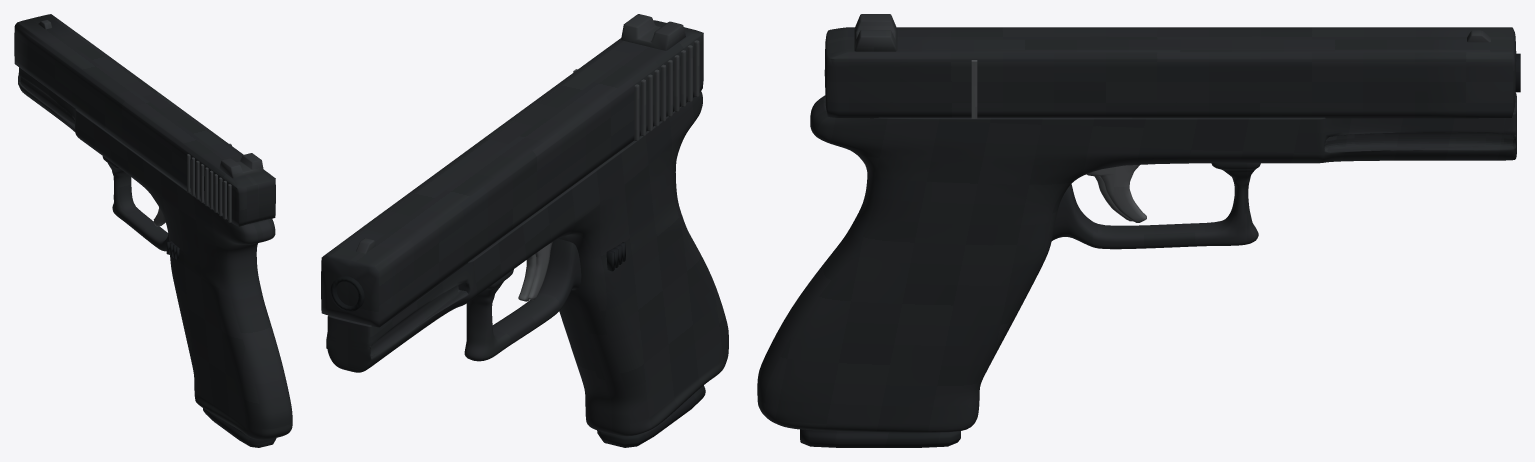
File: glock-view.glb
3 renders of one model, left to right at view 1: azimuth 30°, elevation 25°; view 2: azimuth 150°, elevation 25°; view 3: azimuth 270°, elevation 25°, orthographic. The views are drawn at different scales.
Visible parts, largest first — view 1: Cube.010_Cube.016; view 2: Cube.010_Cube.016; view 3: Cube.010_Cube.016.
Part boxes in pixels (bbox=[...]): Cube.010_Cube.016: bbox=[14, 14, 292, 447]; Cube.010_Cube.016: bbox=[321, 14, 728, 447]; Cube.010_Cube.016: bbox=[757, 14, 1520, 447].
Size of the model in its own units: 0.0306 by 0.1735 by 0.29.
6 materials, 6 textured.
